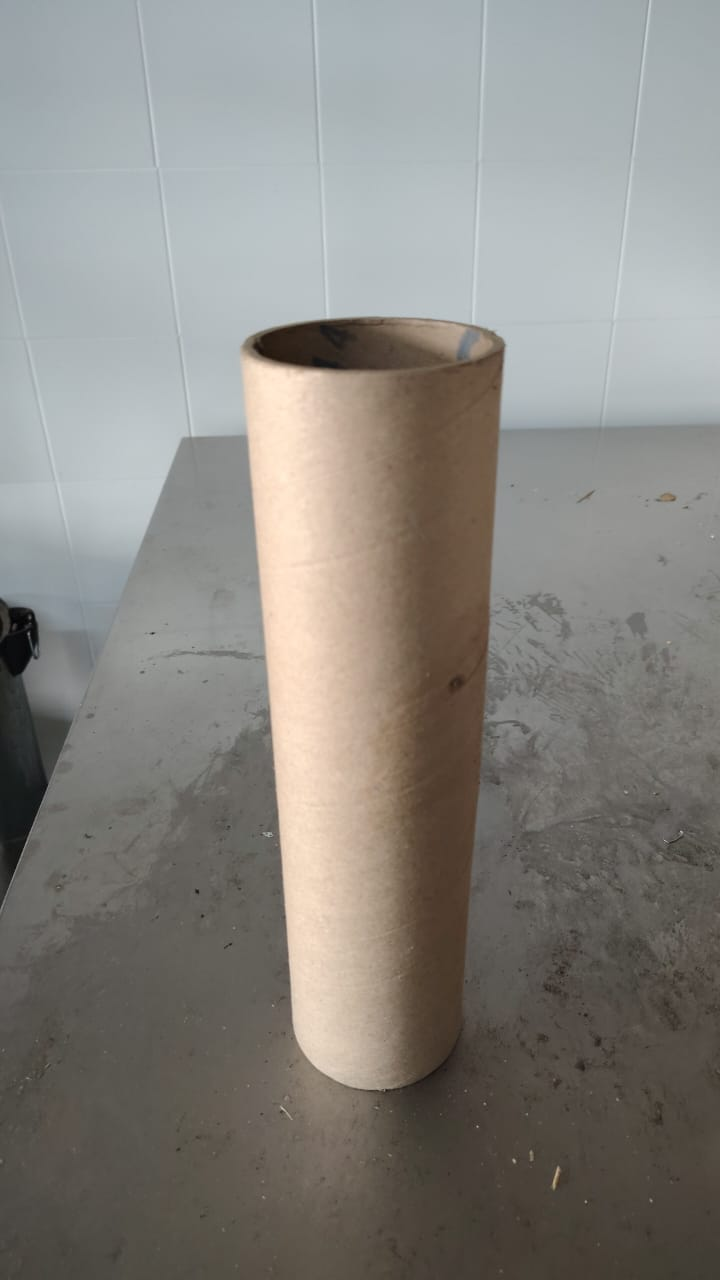Carton: (237, 320, 507, 1094)
